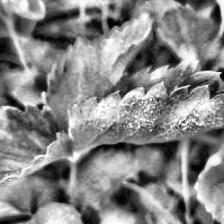Powdery Mildew Leaf: (66, 58, 224, 160), (42, 14, 152, 134), (0, 102, 76, 184), (0, 0, 48, 22)
